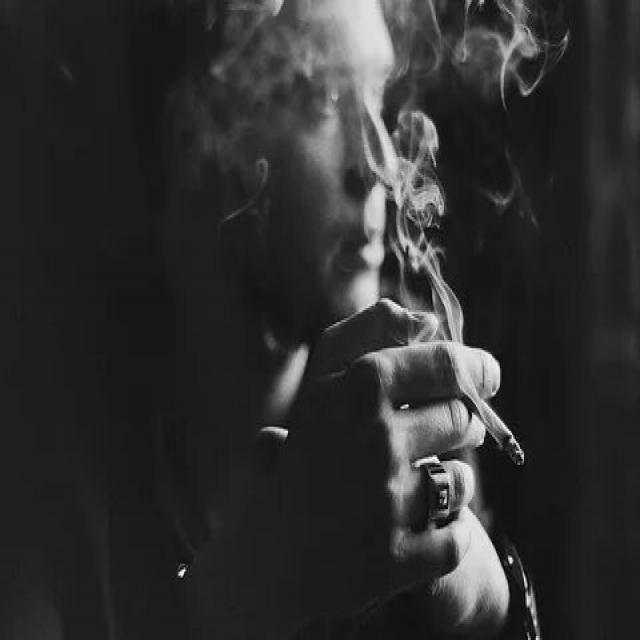cigarette: (456, 380, 532, 475)
